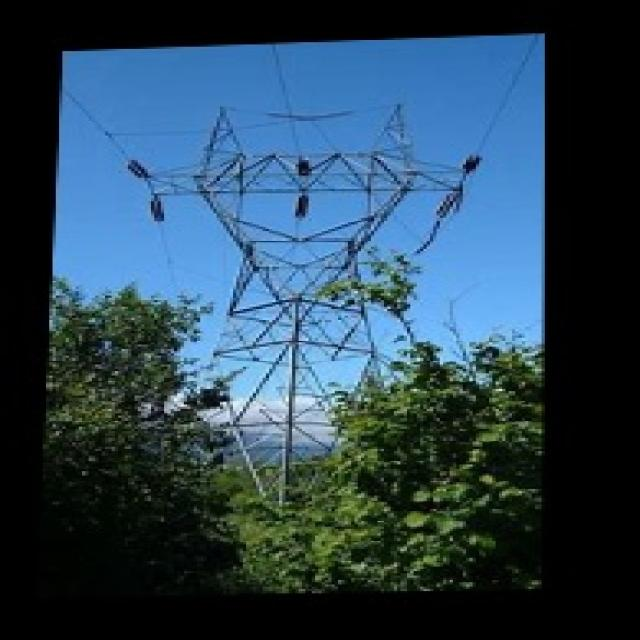utility poles: (296, 263, 540, 546), (56, 262, 292, 542)
